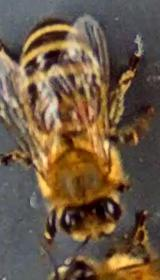varroa_mite: (71, 94, 101, 131)
